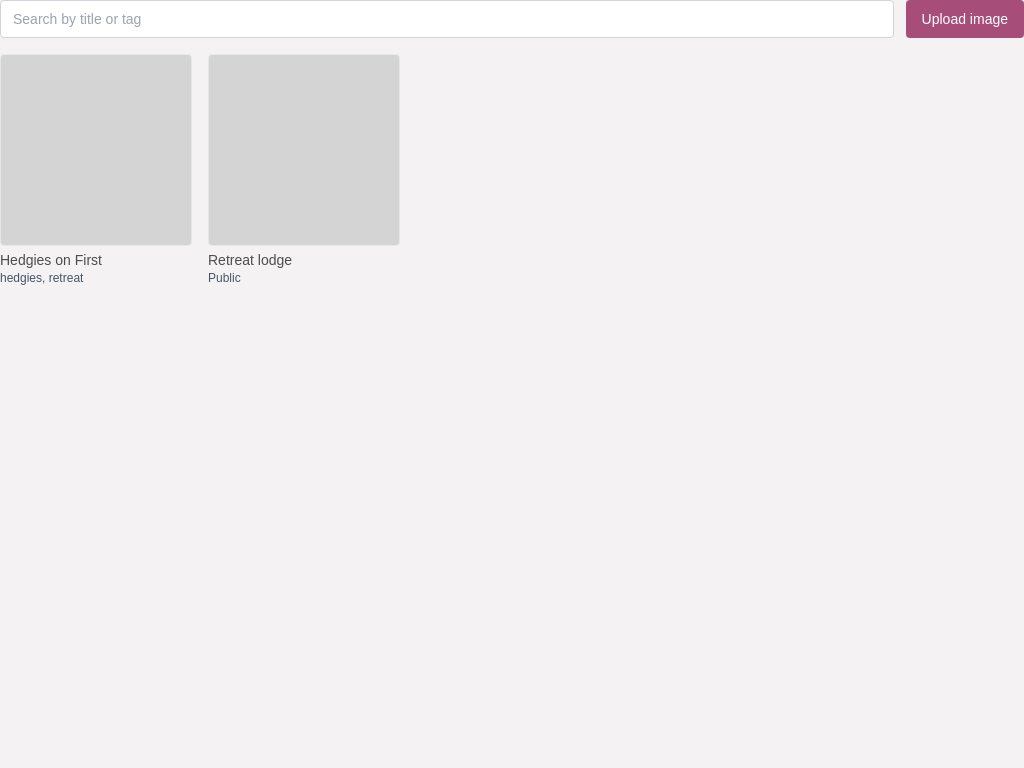
Test: MediaEditor › shows why an image couldn't be loaded
The width and height of the screenshot is (1024, 768).
Click the text "Hedgies on First" at (51, 260), box [0,252,102,268]
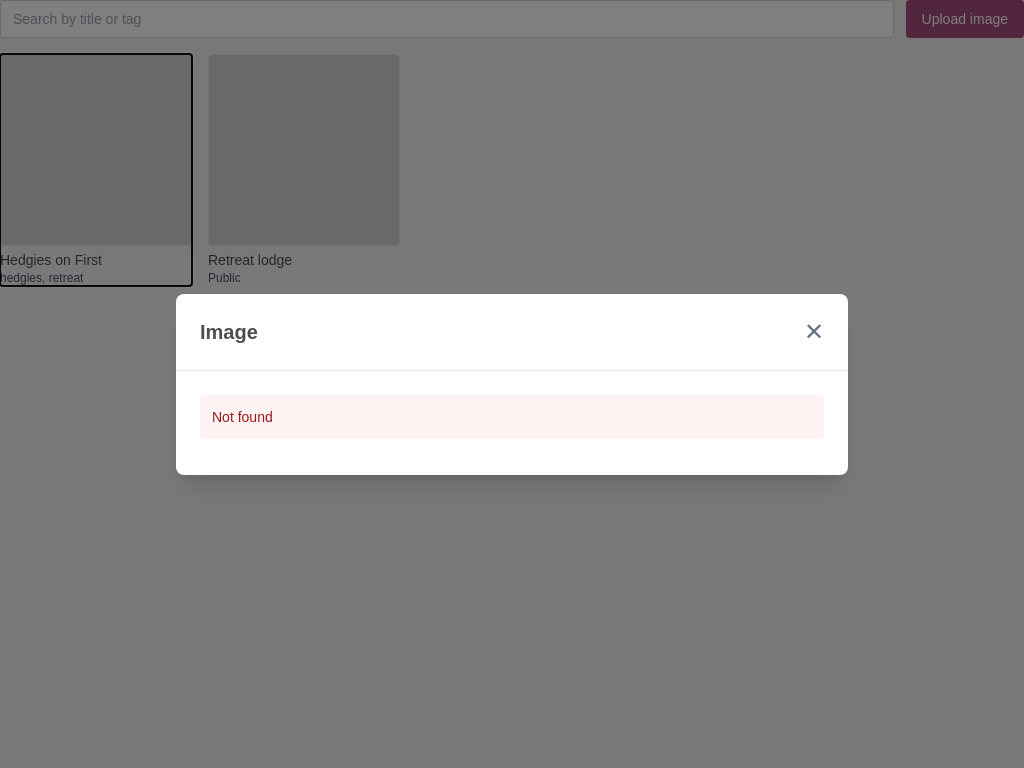
expect the message reads "Not found": met, box [212,408,273,424]
